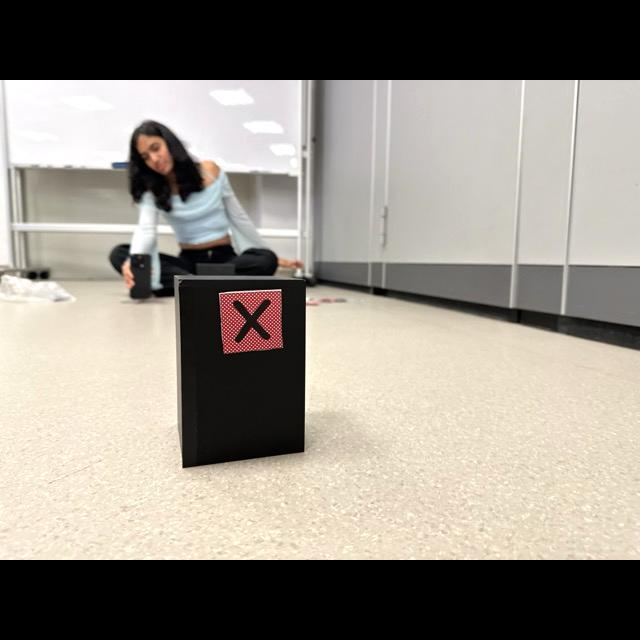X: (233, 299, 271, 343)
